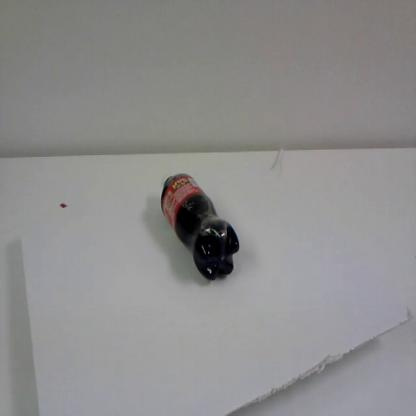bottle: (157, 170, 240, 284)
